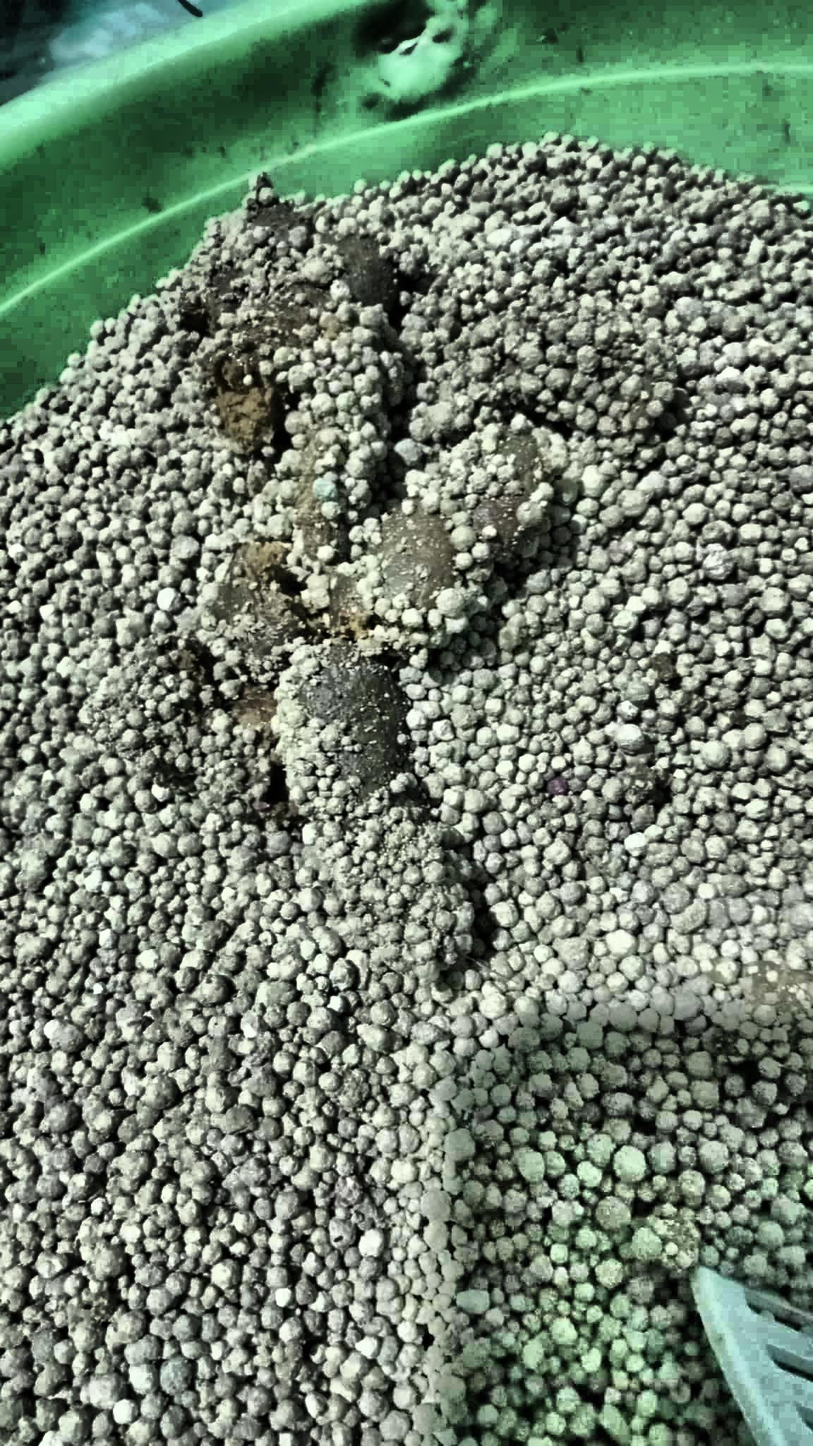poop: (187, 193, 676, 962)
